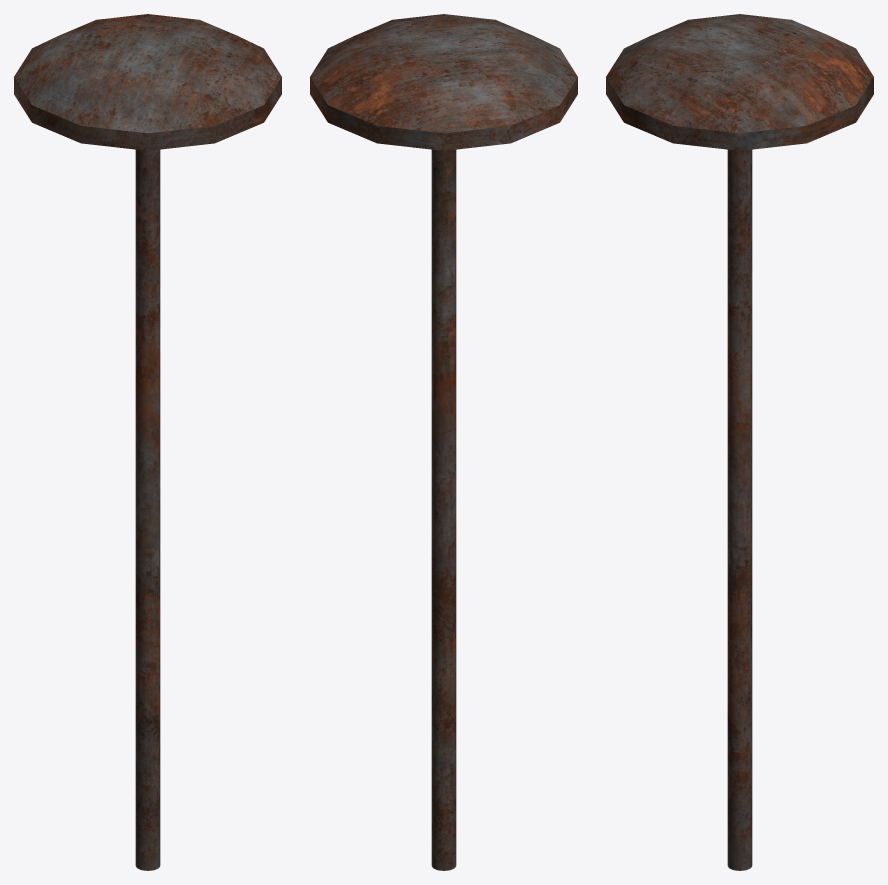
File: Lanternpaal.fbx
The picture shows the model from 3 angles, left to right: view 1: azimuth 30°, elevation 25°; view 2: azimuth 150°, elevation 25°; view 3: azimuth 270°, elevation 25°; orthographic projection.
Parts seen in each view (by area): view 1: lantaarnpaal.001; view 2: lantaarnpaal.001; view 3: lantaarnpaal.001.
Boxes of the visible parts, x1,y1,x2,y2 form: lantaarnpaal.001: [14, 14, 281, 870]; lantaarnpaal.001: [310, 14, 577, 870]; lantaarnpaal.001: [606, 14, 873, 870].
Size of the model in its own units: 291 by 981 by 291.
